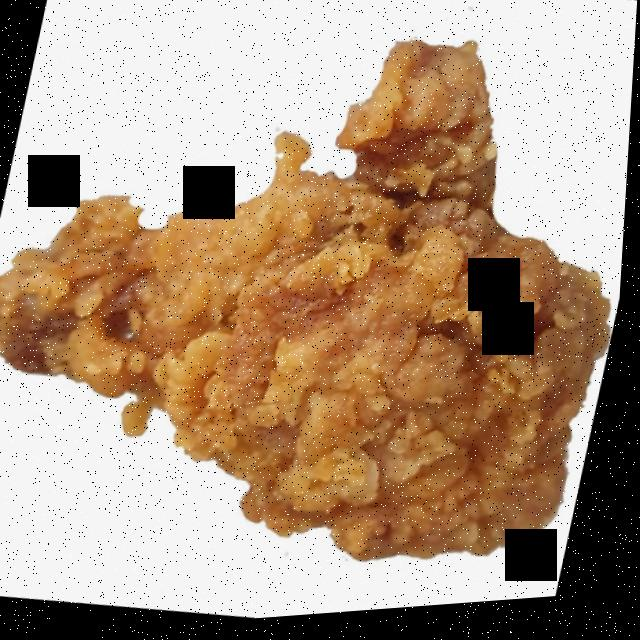Frango: (0, 82, 634, 614)
